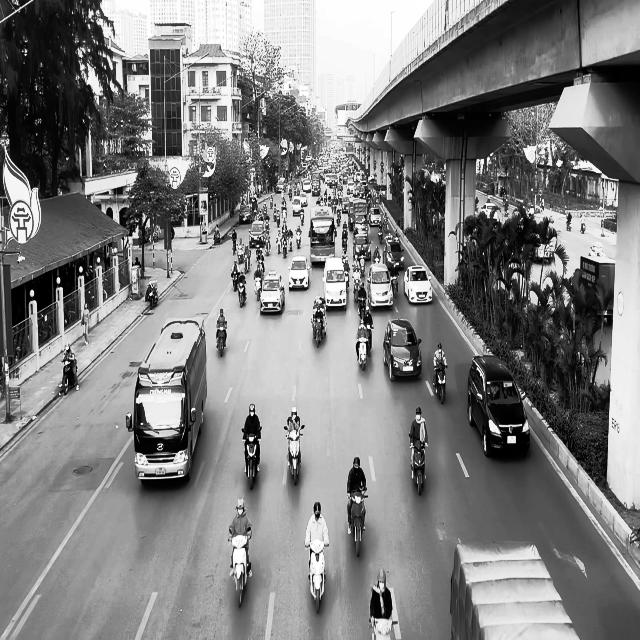bus: (125, 316, 208, 483), (309, 205, 335, 265)
car: (466, 354, 530, 458), (382, 318, 422, 382), (403, 264, 432, 304), (259, 271, 285, 314), (288, 256, 310, 290)
motorbike: (228, 533, 252, 607), (306, 540, 326, 614), (347, 487, 368, 557), (241, 426, 262, 490), (284, 423, 304, 485), (409, 434, 427, 495), (58, 358, 79, 396), (432, 364, 447, 404), (312, 310, 326, 348), (216, 320, 227, 357), (146, 280, 158, 308), (236, 276, 246, 307)
